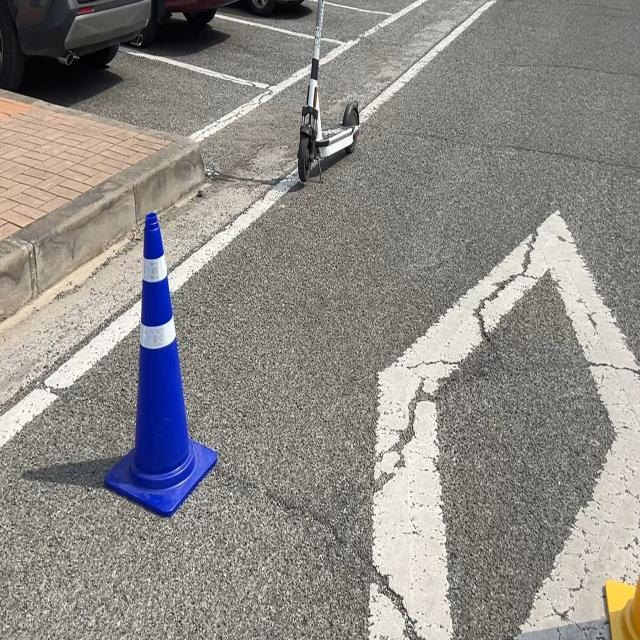b_rub: (104, 211, 217, 516)
